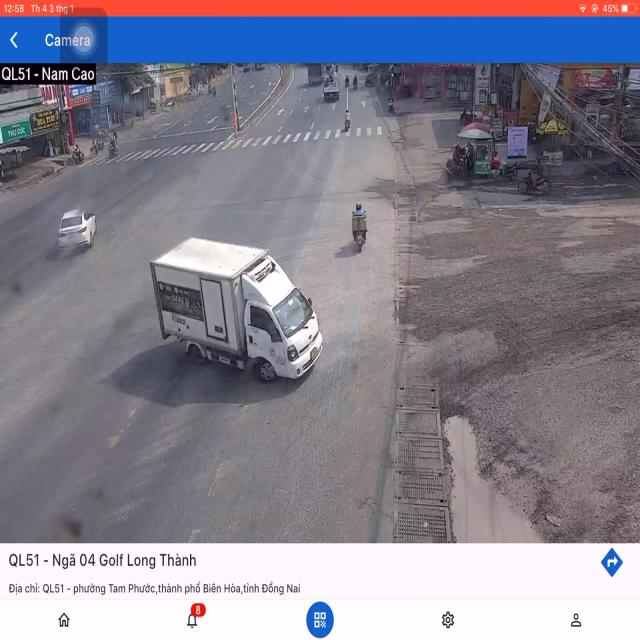car: (58, 210, 95, 251)
motorbike: (350, 200, 368, 256)
truck: (145, 238, 319, 374)
